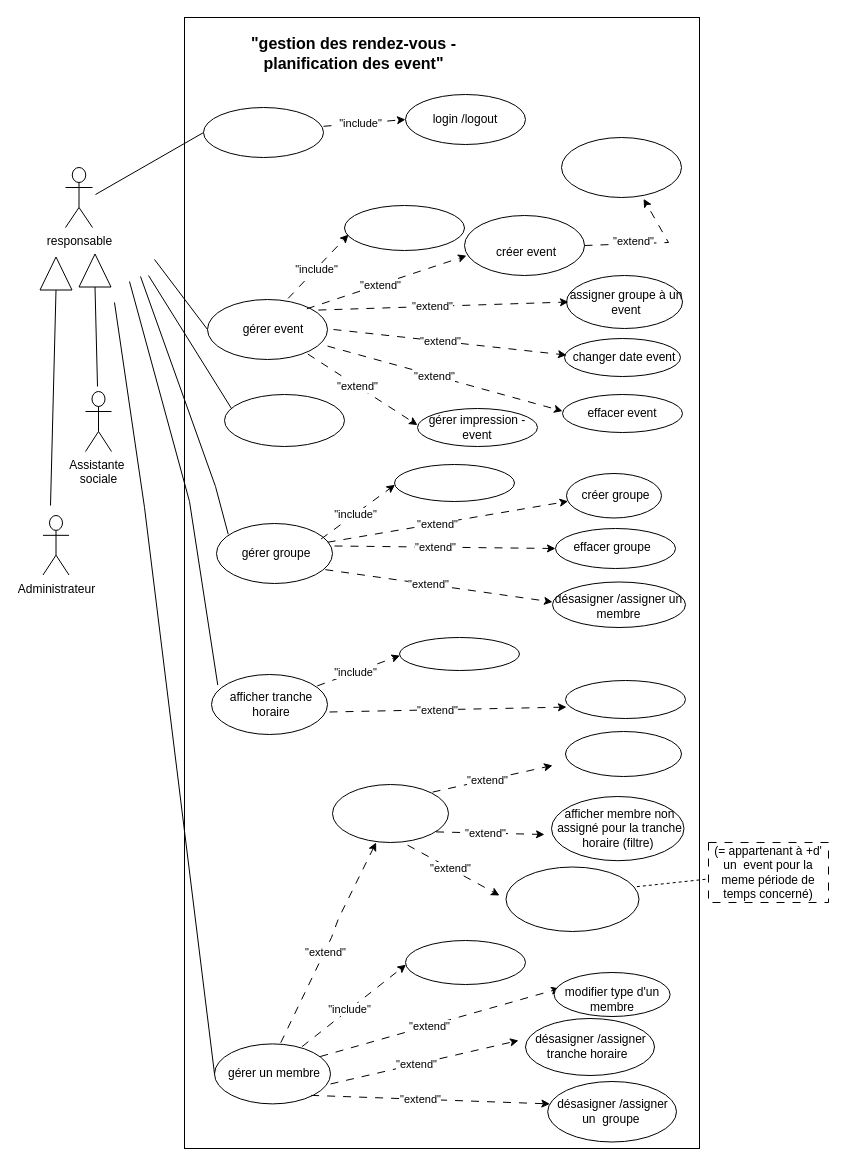
Image size: 846x1166. Some labels were removed from this diagram. Each missing label, with the box of its shape:
afficher membre sans groupe(filtre): (564, 730, 682, 776)
afficher membre sur-assigné pour la tranche horaire(filtre): (505, 866, 639, 932)
authentifier: (202, 106, 324, 158)
chercher membre: (332, 784, 448, 842)
choisir event: (344, 204, 464, 250)
choisir event à afficher(filtre): (564, 680, 686, 718)
choisir groupe: (394, 464, 514, 502)
choisir membre: (404, 940, 526, 984)
choisir tranche horaire: (398, 636, 520, 670)
dupliquer event (groupe y compris): (560, 136, 682, 198)
gérer les notifications: (224, 394, 344, 446)
